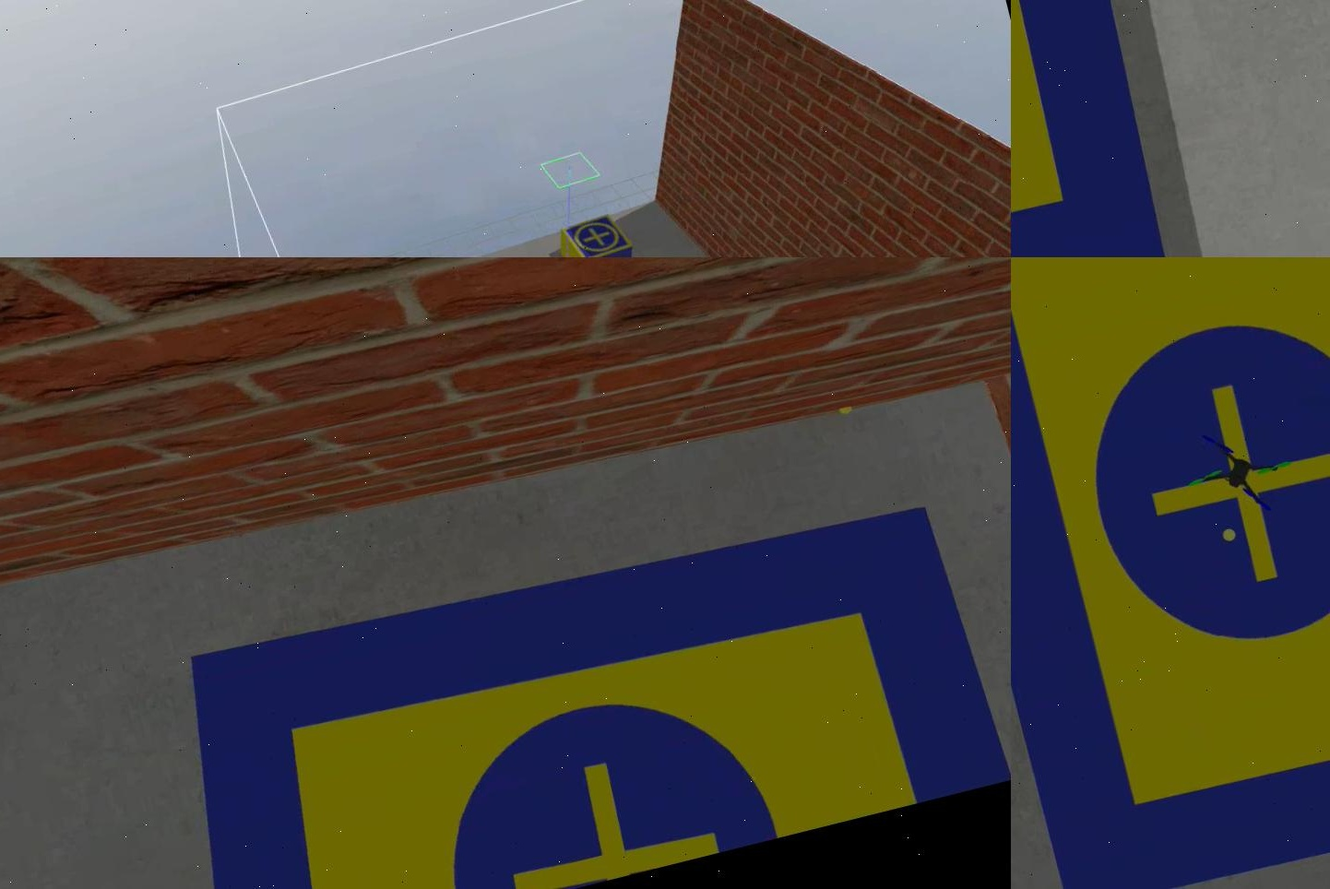large_base: (148, 472, 1009, 889), (1009, 258, 1328, 889), (1009, 1, 1185, 258)
small_base: (558, 211, 632, 258)
